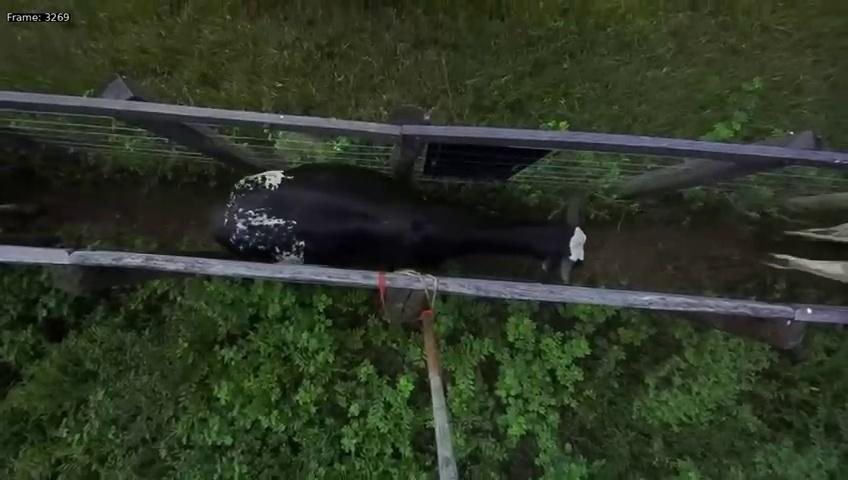cattle: (211, 154, 597, 287)
